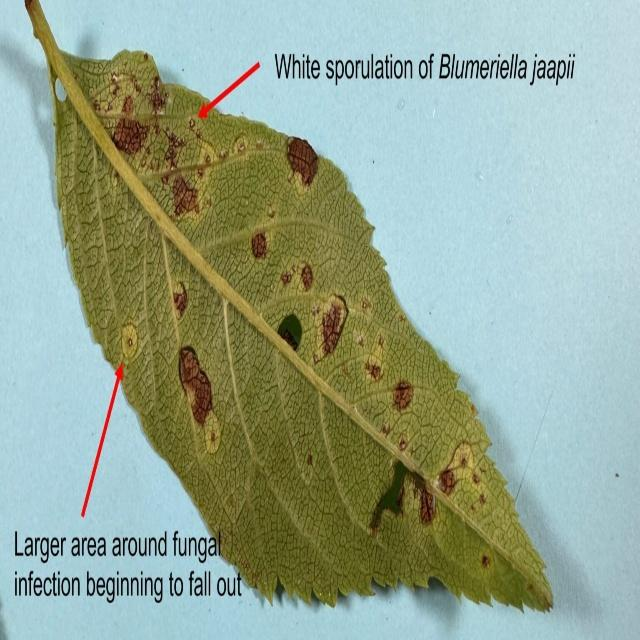leaf_spot: (71, 85, 507, 519)
